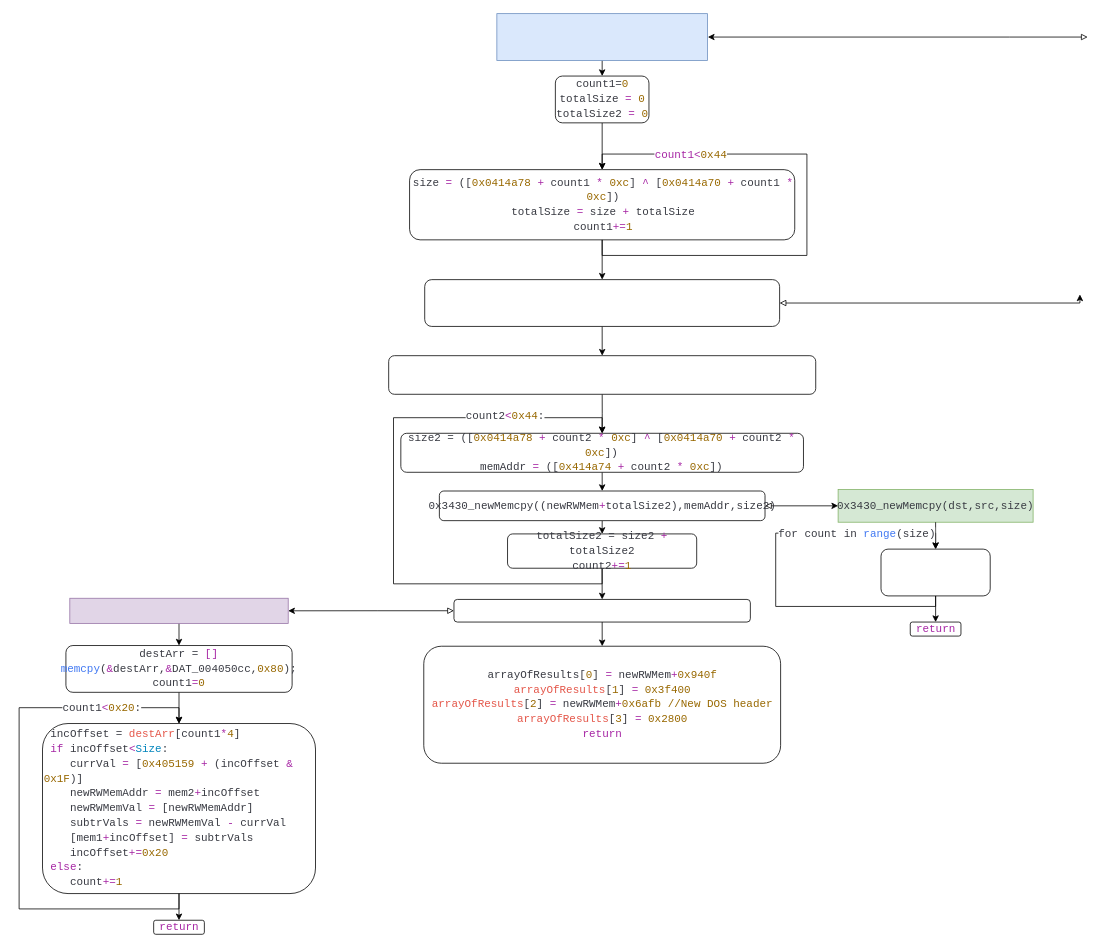
Image size: 1108x948. Some labels were removed from this diagram. Here are the shapes that lost their labels. From the top down, the centre of each, then its label:
[601,36]: 0x1520_decryptData(arrayOfResults)
[602,302]: VirtualAlloc = 0x2050_findKernel32FuncAddr (" VirtualAlloc" )
[602,374]: newRWMem = VirtualAlloc ( NULL , totalSize,MEM_COMMIT,PAGE_READWRITE) count2 = 0
[935,572]: dl = [src + count] [dst + count] = dl
[178,610]: 0x1990_decryptFunc(mem1,mem2,size)
[601,610]: 0x1990_decryptFunc(newRWMem,newRWMem, totalSize)
